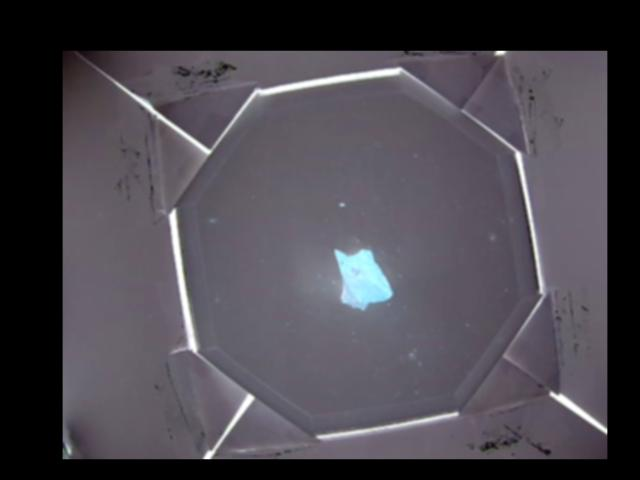Brisk: (335, 246, 392, 308)
